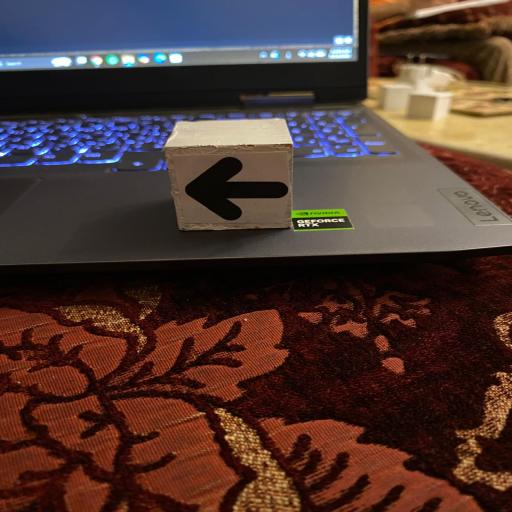Back: (163, 119, 298, 232)
